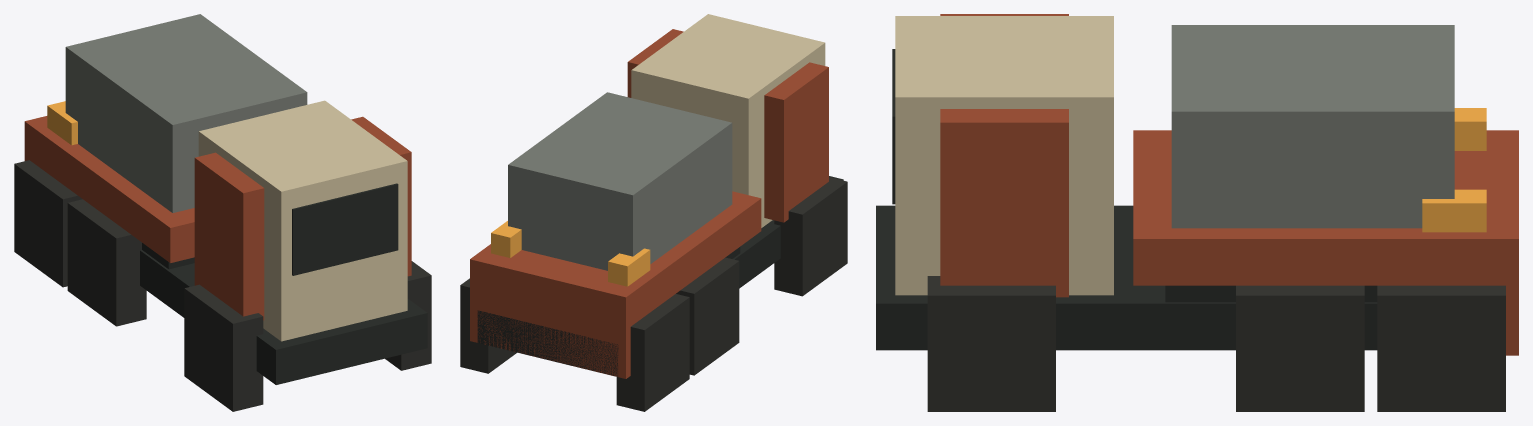
The model's file is truck.gltf.
3 views of the same model, side by side, from view 1: azimuth 30°, elevation 25°; view 2: azimuth 150°, elevation 25°; view 3: azimuth 270°, elevation 25° (orthographic). The views are drawn at different scales.
Parts seen in each view (by area): view 1: pallet, cab, doorPanel-1, chassis, wheel_-1_0Mesh, wheel_-1_1Mesh, bed, windshield, wheel_-1_2Mesh, wheel_1_0Mesh, doorPanel1, tailgatePanel (+2 smaller); view 2: pallet, tailgatePanel, cab, doorPanel-1, chassis, wheel_-1_0Mesh, wheel_-1_2Mesh, bed, wheel_-1_1Mesh, wheel_1_2Mesh, brakeLight-1, brakeLight1 (+1 smaller); view 3: pallet, cab, doorPanel1, bed, chassis, wheel_1_0Mesh, wheel_1_1Mesh, wheel_1_2Mesh, tailgatePanel, brakeLight1, bedMount, brakeLight-1 (+1 smaller).
Boxes of the visible parts, x1,y1,x2,y2 form: pallet: (65,14,307,212); cab: (198,100,407,341); doorPanel-1: (194,152,264,320); chassis: (140,250,427,384); wheel_-1_0Mesh: (184,284,263,411); wheel_-1_1Mesh: (67,199,146,326); bed: (49,136,194,262); windshield: (292,183,398,275); wheel_-1_2Mesh: (14,160,82,287); wheel_1_0Mesh: (385,261,431,370); doorPanel1: (351,116,411,276); tailgatePanel: (24,116,58,173); pallet: (508,92,732,270); tailgatePanel: (470,244,648,378); cab: (631,14,825,227); doorPanel-1: (764,62,828,222); chassis: (477,176,843,376); wheel_-1_0Mesh: (774,177,847,296); wheel_-1_2Mesh: (616,294,689,411); bed: (639,191,761,312); wheel_-1_1Mesh: (676,257,739,375); wheel_1_2Mesh: (460,278,516,373); brakeLight-1: (608,248,650,286); brakeLight1: (491,221,521,257); pallet: (1171,25,1454,228); cab: (895,16,1113,295); doorPanel1: (940,109,1068,297); bed: (1133,130,1454,285); chassis: (876,205,1377,350); wheel_1_0Mesh: (927,276,1055,411); wheel_1_1Mesh: (1236,285,1364,411); wheel_1_2Mesh: (1377,285,1505,411); tailgatePanel: (1454,130,1518,355); brakeLight1: (1422,189,1486,232); bedMount: (1165,285,1377,302); brakeLight-1: (1454,108,1486,150).
Bounding box in the file's own units: 1.18 × 1.25 × 2.5.
